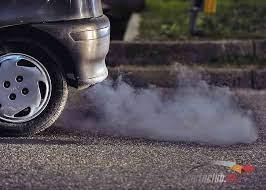smoke: (66, 75, 258, 147)
